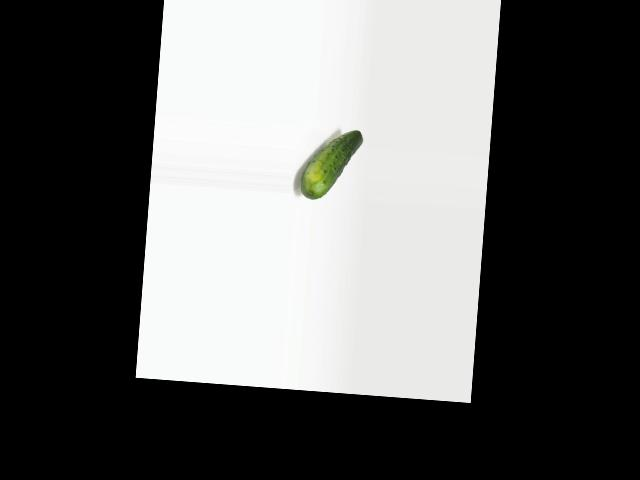cucumber: (300, 126, 363, 202)
